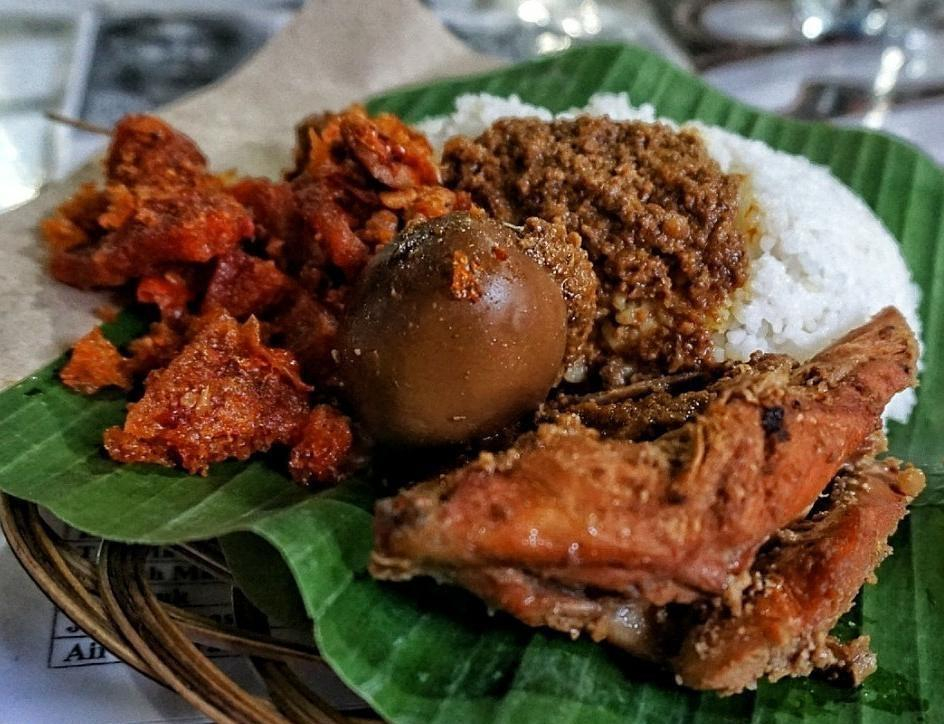gudeg: (43, 109, 929, 695)
